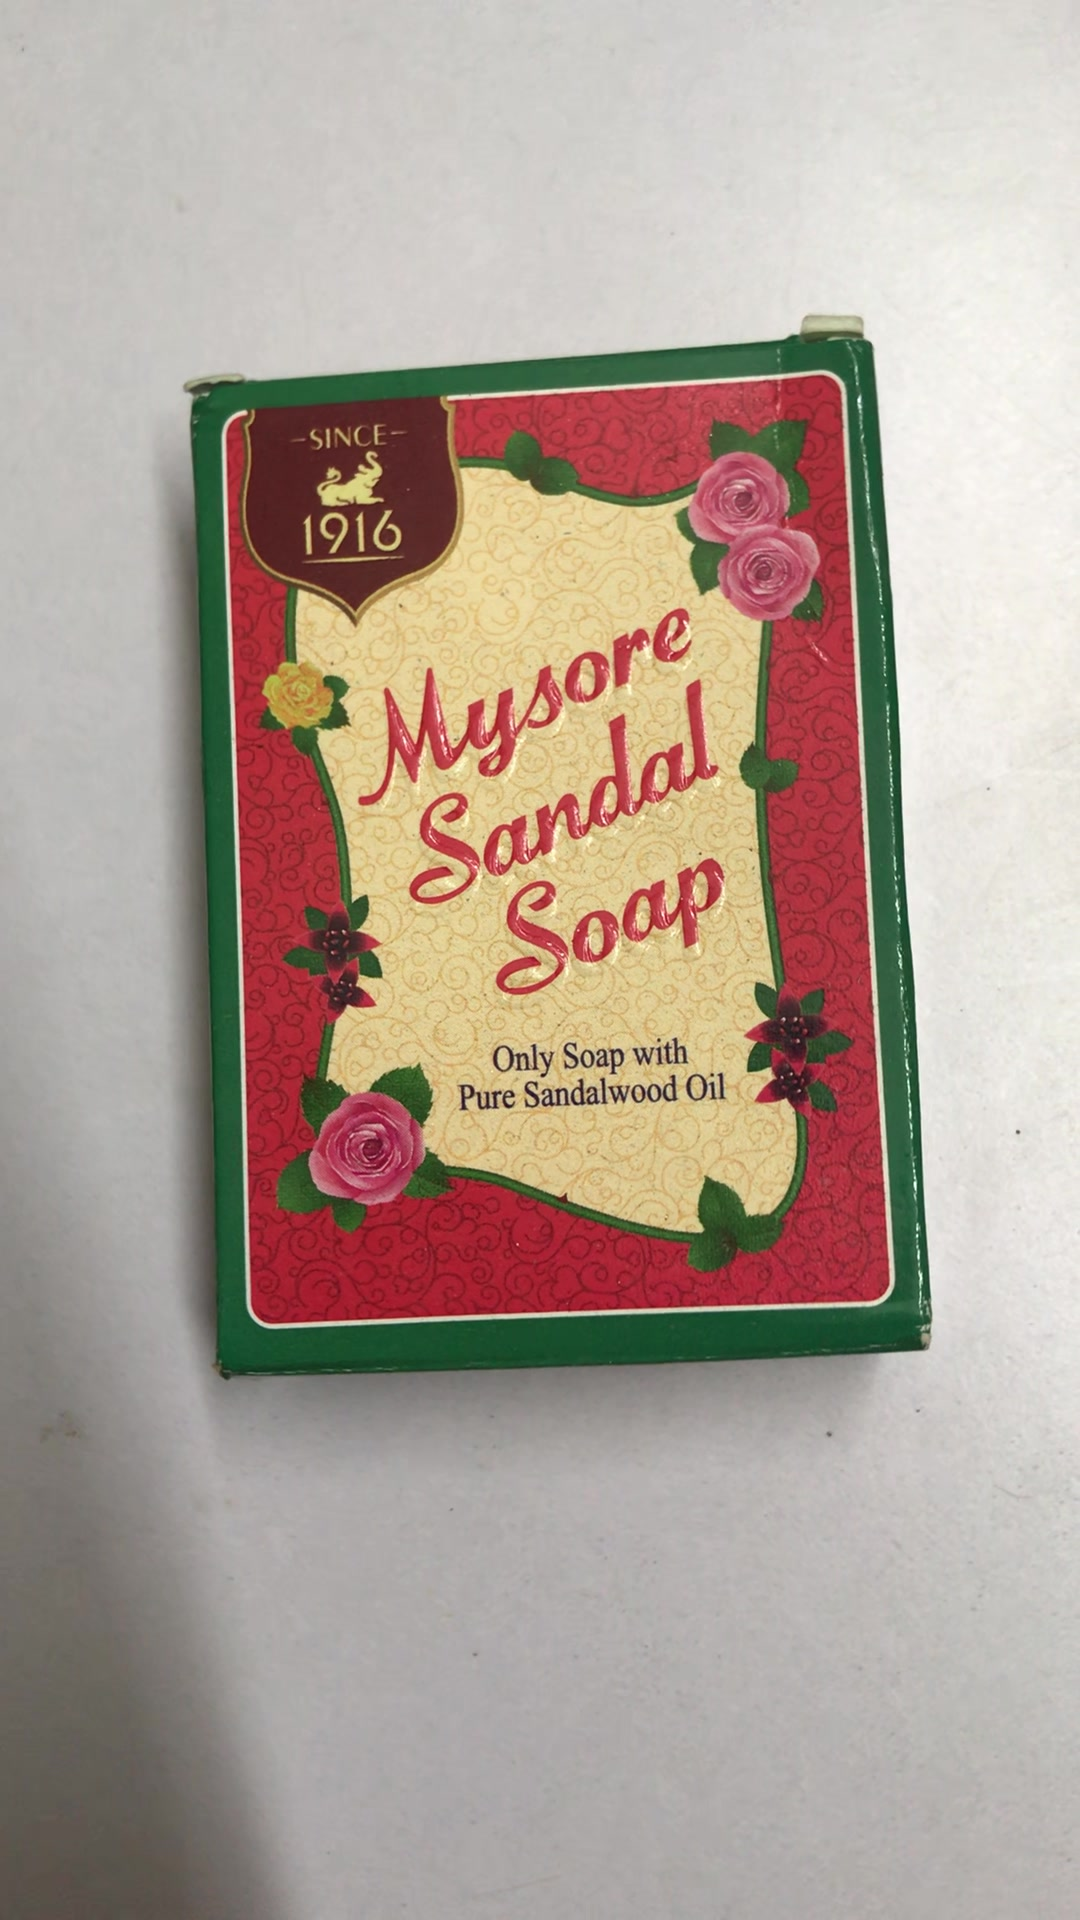mysore sandal soap: (186, 345, 934, 1373)
